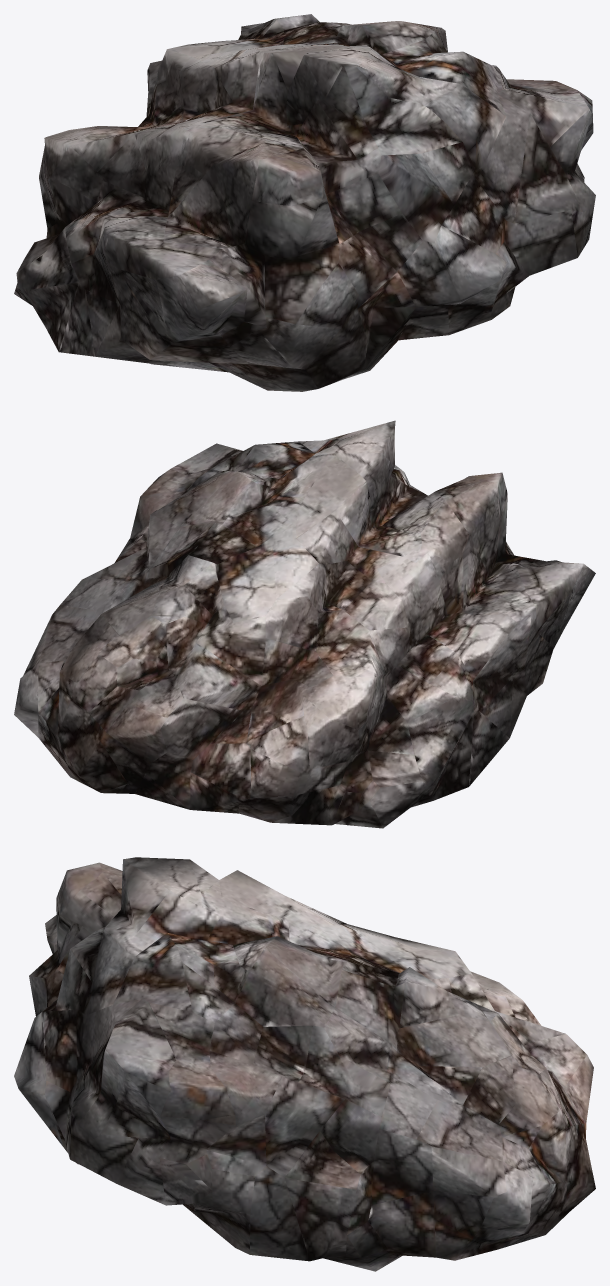
Rendered from rock-gold.glb.
3 renders of one model, top to bottom at view 1: azimuth 30°, elevation 25°; view 2: azimuth 150°, elevation 25°; view 3: azimuth 270°, elevation 25°, orthographic. The views are drawn at different scales.
Size of the model in its own units: 1.75 by 1.12 by 1.89.
Materials: 1 (1 with a texture image).
